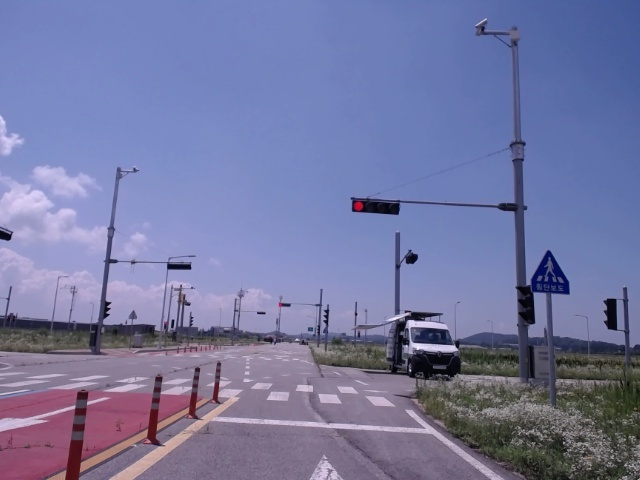red_4: (352, 200, 399, 215)
